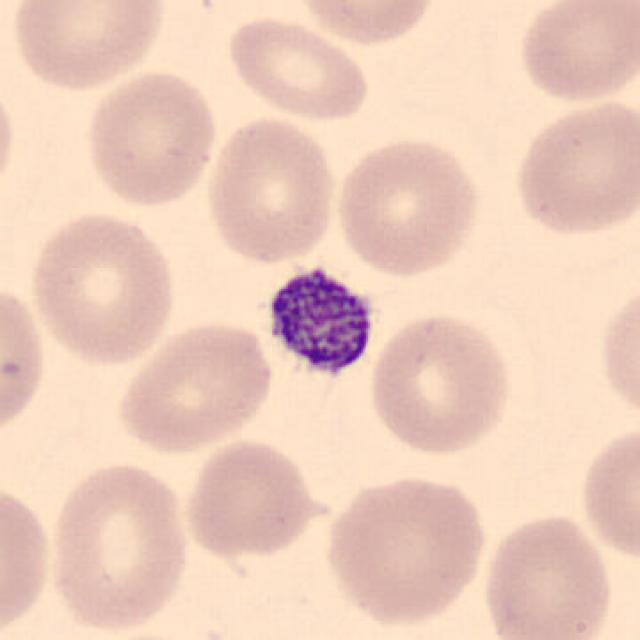Platelets: (256, 258, 382, 390)
RBC: (320, 469, 491, 628), (44, 456, 194, 636), (25, 206, 181, 368), (112, 316, 277, 456), (364, 308, 516, 458), (331, 132, 485, 280), (201, 111, 341, 268), (80, 67, 220, 210), (508, 94, 638, 242), (180, 436, 327, 562), (478, 509, 616, 640), (222, 10, 374, 124), (7, 0, 170, 93), (512, 0, 638, 108), (574, 418, 640, 568), (0, 474, 57, 640), (0, 275, 52, 446), (290, 0, 441, 48), (594, 275, 638, 430), (0, 72, 20, 206)
